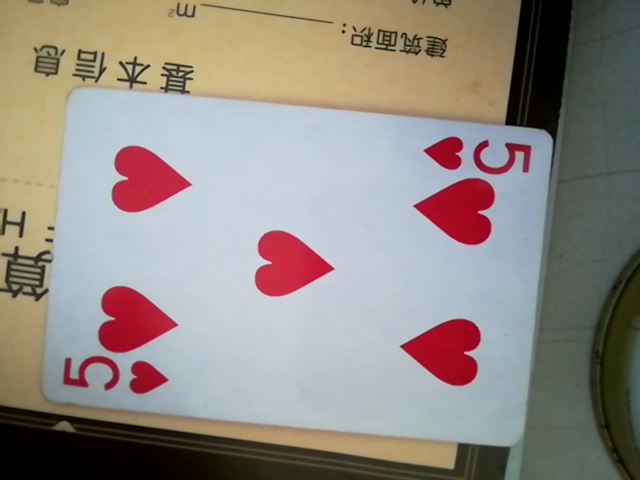hx 5: (37, 90, 556, 447)
